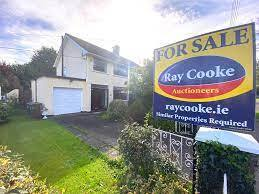property sign: (144, 19, 259, 137)
